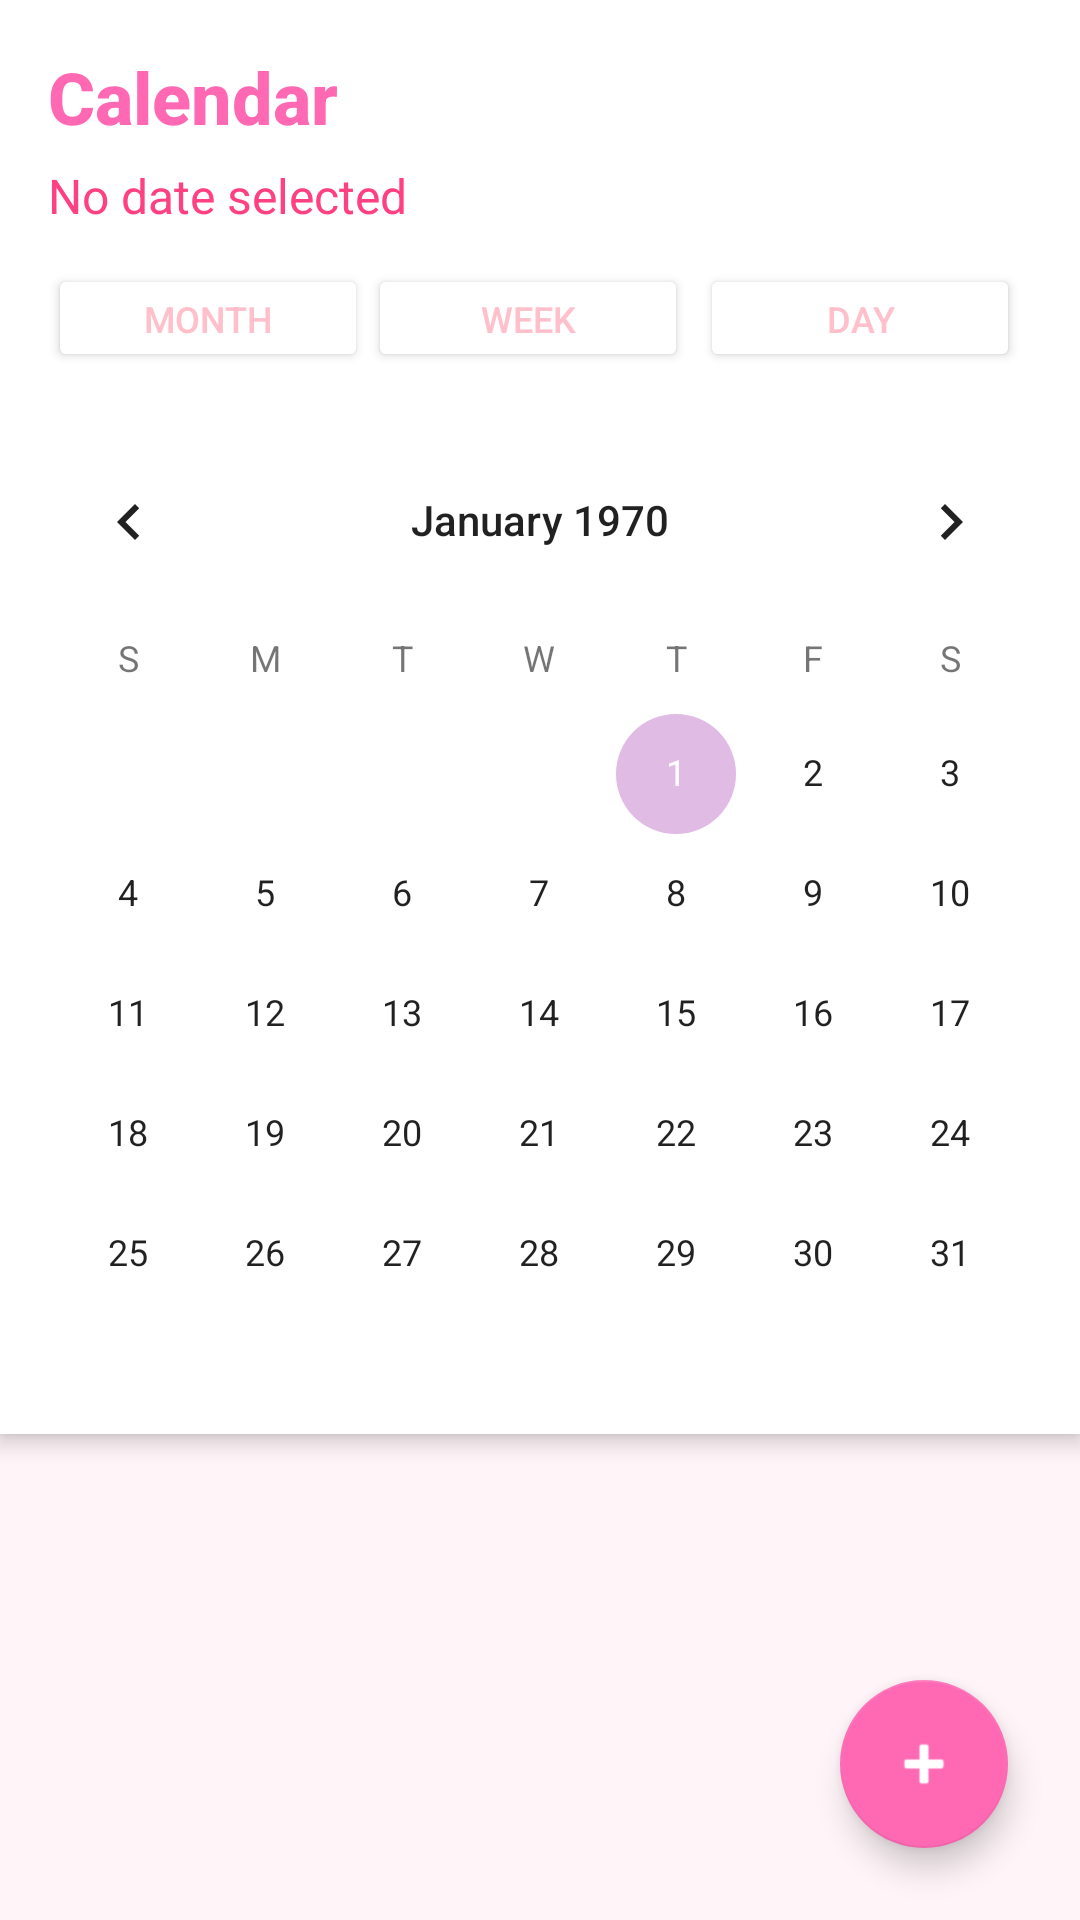

Screen size 1080px×1920px. Icon name, then its center in pixels as [x,y]:
add: [924,1764]
